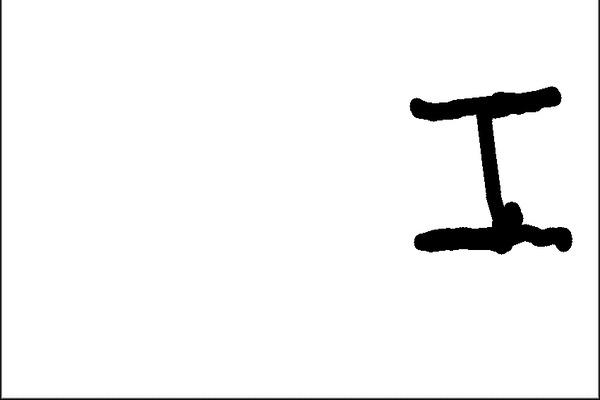i: (406, 81, 575, 257)
